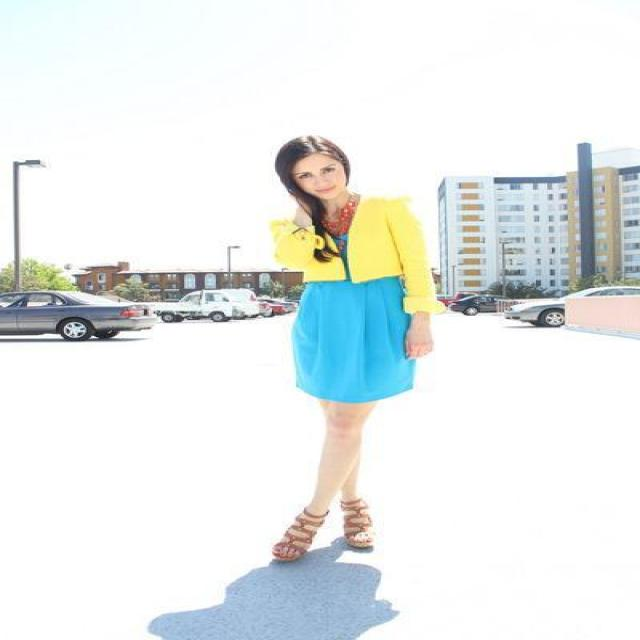jacket: (269, 197, 456, 319), (293, 269, 414, 402)
shoe: (272, 493, 371, 563)
